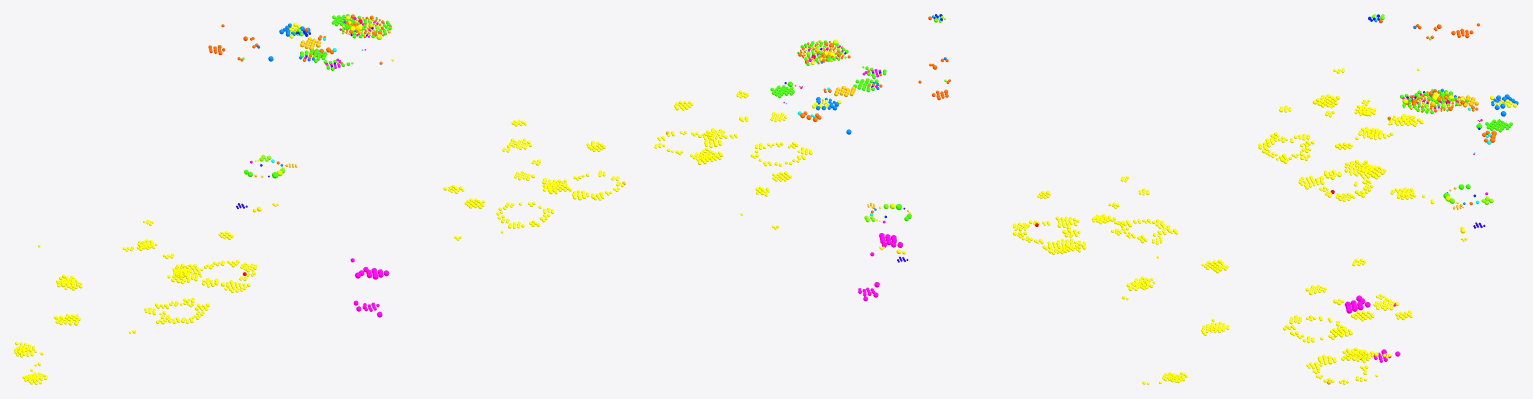
Rendered from task-6b4530bd0-layout.gltf.
3 renders of one model, left to right at view 1: azimuth 30°, elevation 25°; view 2: azimuth 150°, elevation 25°; view 3: azimuth 270°, elevation 25°, orthographic. The views are drawn at different scales.
Visible parts, largest first — view 1: normal_java_files, normal_tar_files; view 2: normal_java_files, normal_tar_files, normal_zip_files; view 3: normal_java_files, normal_tar_files, normal_zip_files, normal_apk_files, normal_7z_files, normal_jar_files, normal_xml_files.
Part boxes in pixels (x1=…): normal_java_files: x1=14, y1=119, x2=623, y2=384; normal_tar_files: x1=244, y1=14, x2=391, y2=178; normal_java_files: x1=654, y1=90, x2=1229, y2=384; normal_tar_files: x1=770, y1=40, x2=911, y2=221; normal_zip_files: x1=795, y1=41, x2=882, y2=213; normal_java_files: x1=1258, y1=68, x2=1434, y2=384; normal_tar_files: x1=1400, y1=90, x2=1512, y2=198; normal_zip_files: x1=1387, y1=89, x2=1496, y2=205; normal_apk_files: x1=1345, y1=295, x2=1400, y2=362; normal_7z_files: x1=1409, y1=90, x2=1478, y2=191; normal_jar_files: x1=1429, y1=88, x2=1518, y2=204; normal_xml_files: x1=1379, y1=19, x2=1479, y2=111.
Bounding box in the file's own units: 492 × 237 × 181.
